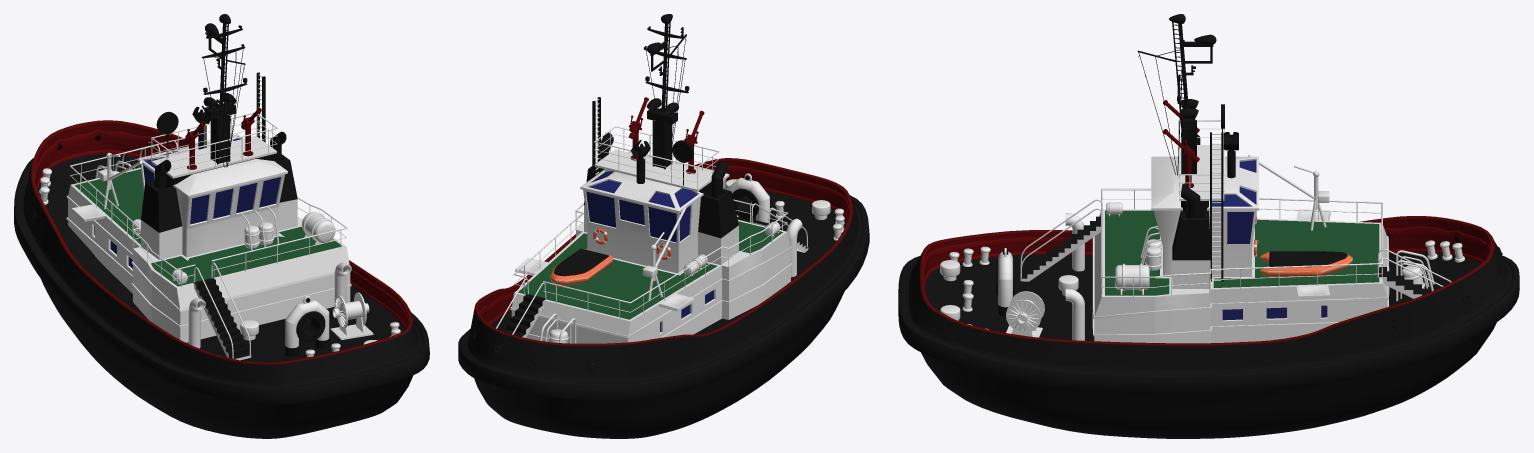
Rendered from 障碍物5OK.FBX.
The picture shows the model from 3 angles, left to right: view 1: azimuth 30°, elevation 25°; view 2: azimuth 150°, elevation 25°; view 3: azimuth 270°, elevation 25°; orthographic projection. The views are drawn at different scales.
Visible parts, largest first — view 1: 灰黑, 白色, 红色, 绿, Obj3d66-606301-5-532; view 2: 灰黑, 白色, 红色, 绿, Obj3d66-606301-5-532, 橘; view 3: 灰黑, 白色, 红色, 绿, Obj3d66-606301-5-532, 橘.
Boxes of the visible parts, bbox=[...] form: 灰黑: bbox=[14, 14, 429, 438]; 白色: bbox=[39, 74, 400, 360]; 红色: bbox=[31, 108, 412, 364]; 绿: bbox=[74, 169, 342, 286]; Obj3d66-606301-5-532: bbox=[94, 138, 280, 268]; 灰黑: bbox=[458, 14, 869, 438]; 白色: bbox=[496, 98, 844, 364]; 红色: bbox=[475, 97, 852, 345]; 绿: bbox=[518, 221, 782, 319]; Obj3d66-606301-5-532: bbox=[586, 171, 713, 332]; 橘: bbox=[550, 228, 671, 285]; 灰黑: bbox=[898, 14, 1519, 438]; 白色: bbox=[940, 120, 1464, 343]; 红色: bbox=[920, 100, 1494, 345]; 绿: bbox=[1105, 210, 1379, 295]; Obj3d66-606301-5-532: bbox=[1212, 160, 1327, 320]; 橘: bbox=[1254, 214, 1352, 276].
Bounding box in the file's own units: 119 × 169 × 247.
